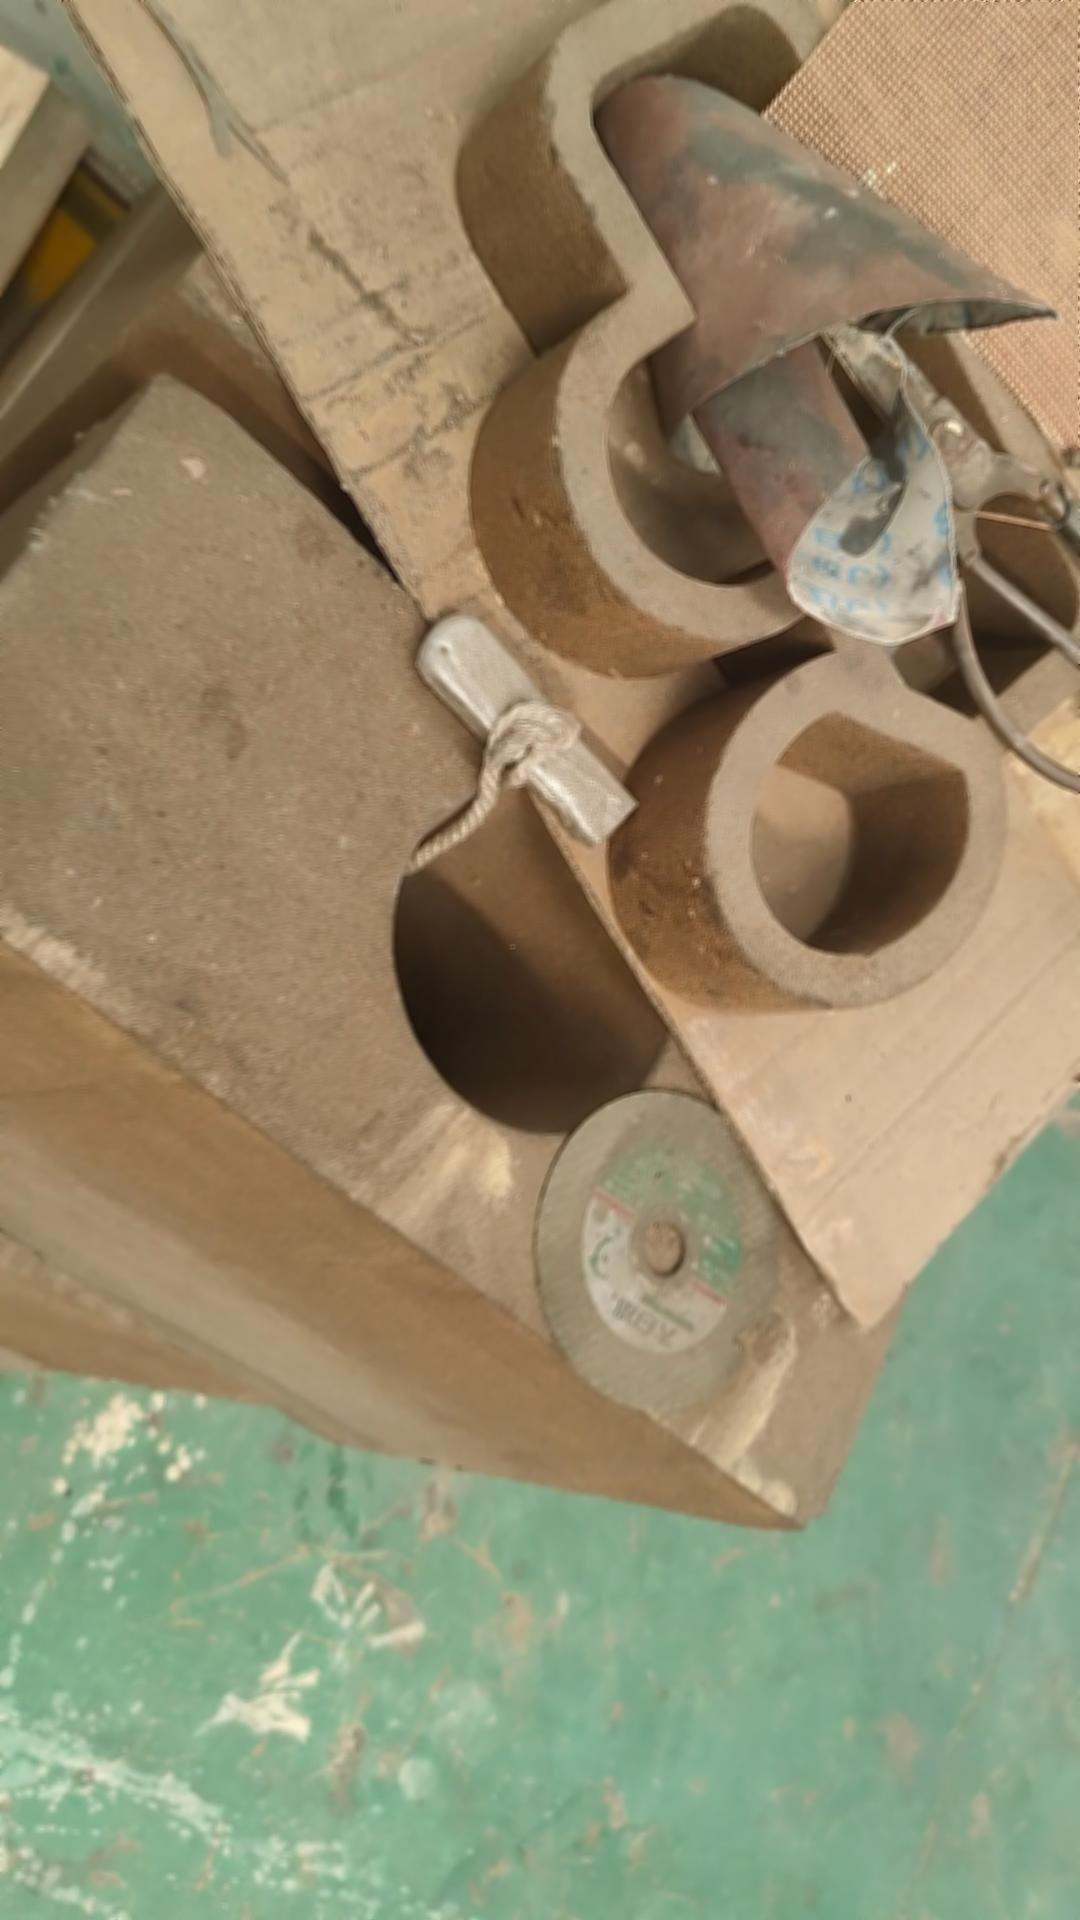pouring hole: (394, 773, 678, 1131)
